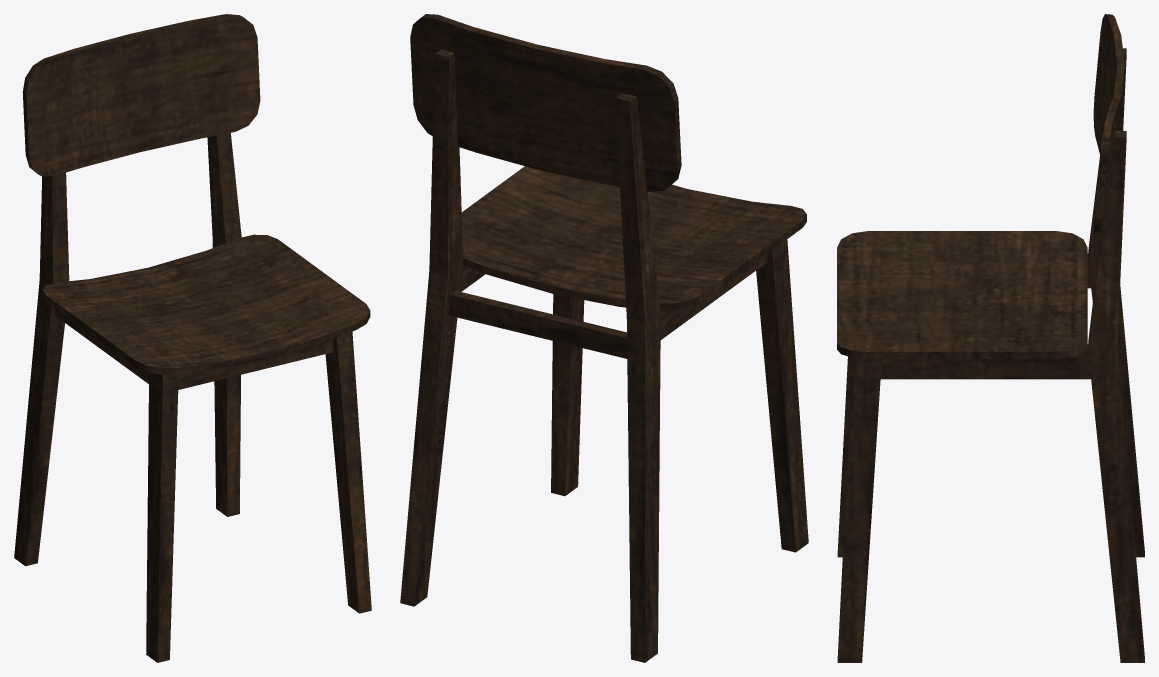
Rendered from chair_mp_3_1.obj.
The picture shows the model from 3 angles, left to right: view 1: azimuth 30°, elevation 25°; view 2: azimuth 150°, elevation 25°; view 3: azimuth 270°, elevation 25°; orthographic projection. The views are drawn at different scales.
Parts seen in each view (by area): view 1: chair_mp_3_1; view 2: chair_mp_3_1; view 3: chair_mp_3_1.
Part boxes in pixels (x1=…): chair_mp_3_1: x1=14, y1=14, x2=371, y2=662; chair_mp_3_1: x1=400, y1=14, x2=808, y2=662; chair_mp_3_1: x1=837, y1=14, x2=1144, y2=662.
Bounding box in the file's own units: 0.4763 × 0.9967 × 0.5126.
